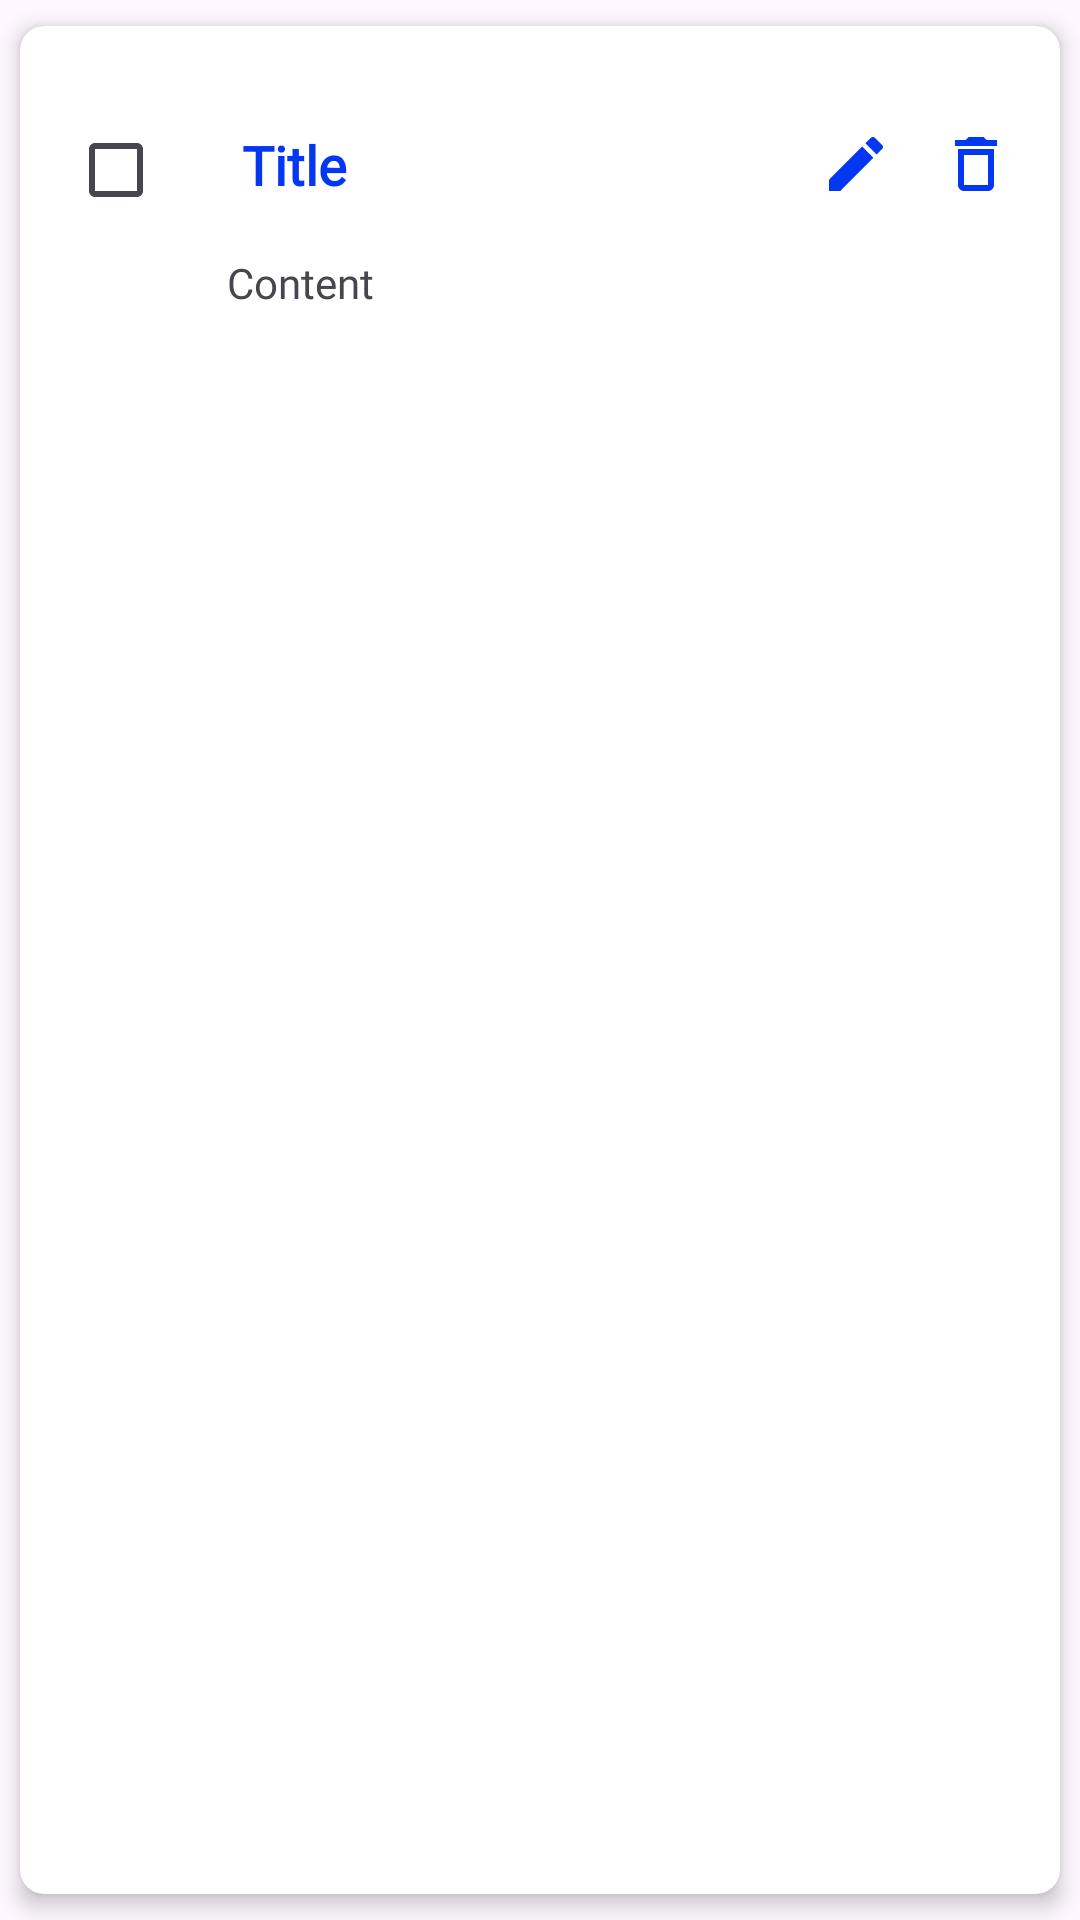

Named icons in this screenshot (1080*1920) and their bounding boxes, (left=x1, top=y1, right=x2, bottom=y2):
delete: (left=955, top=137, right=997, bottom=191)
edit: (left=829, top=137, right=883, bottom=191)
